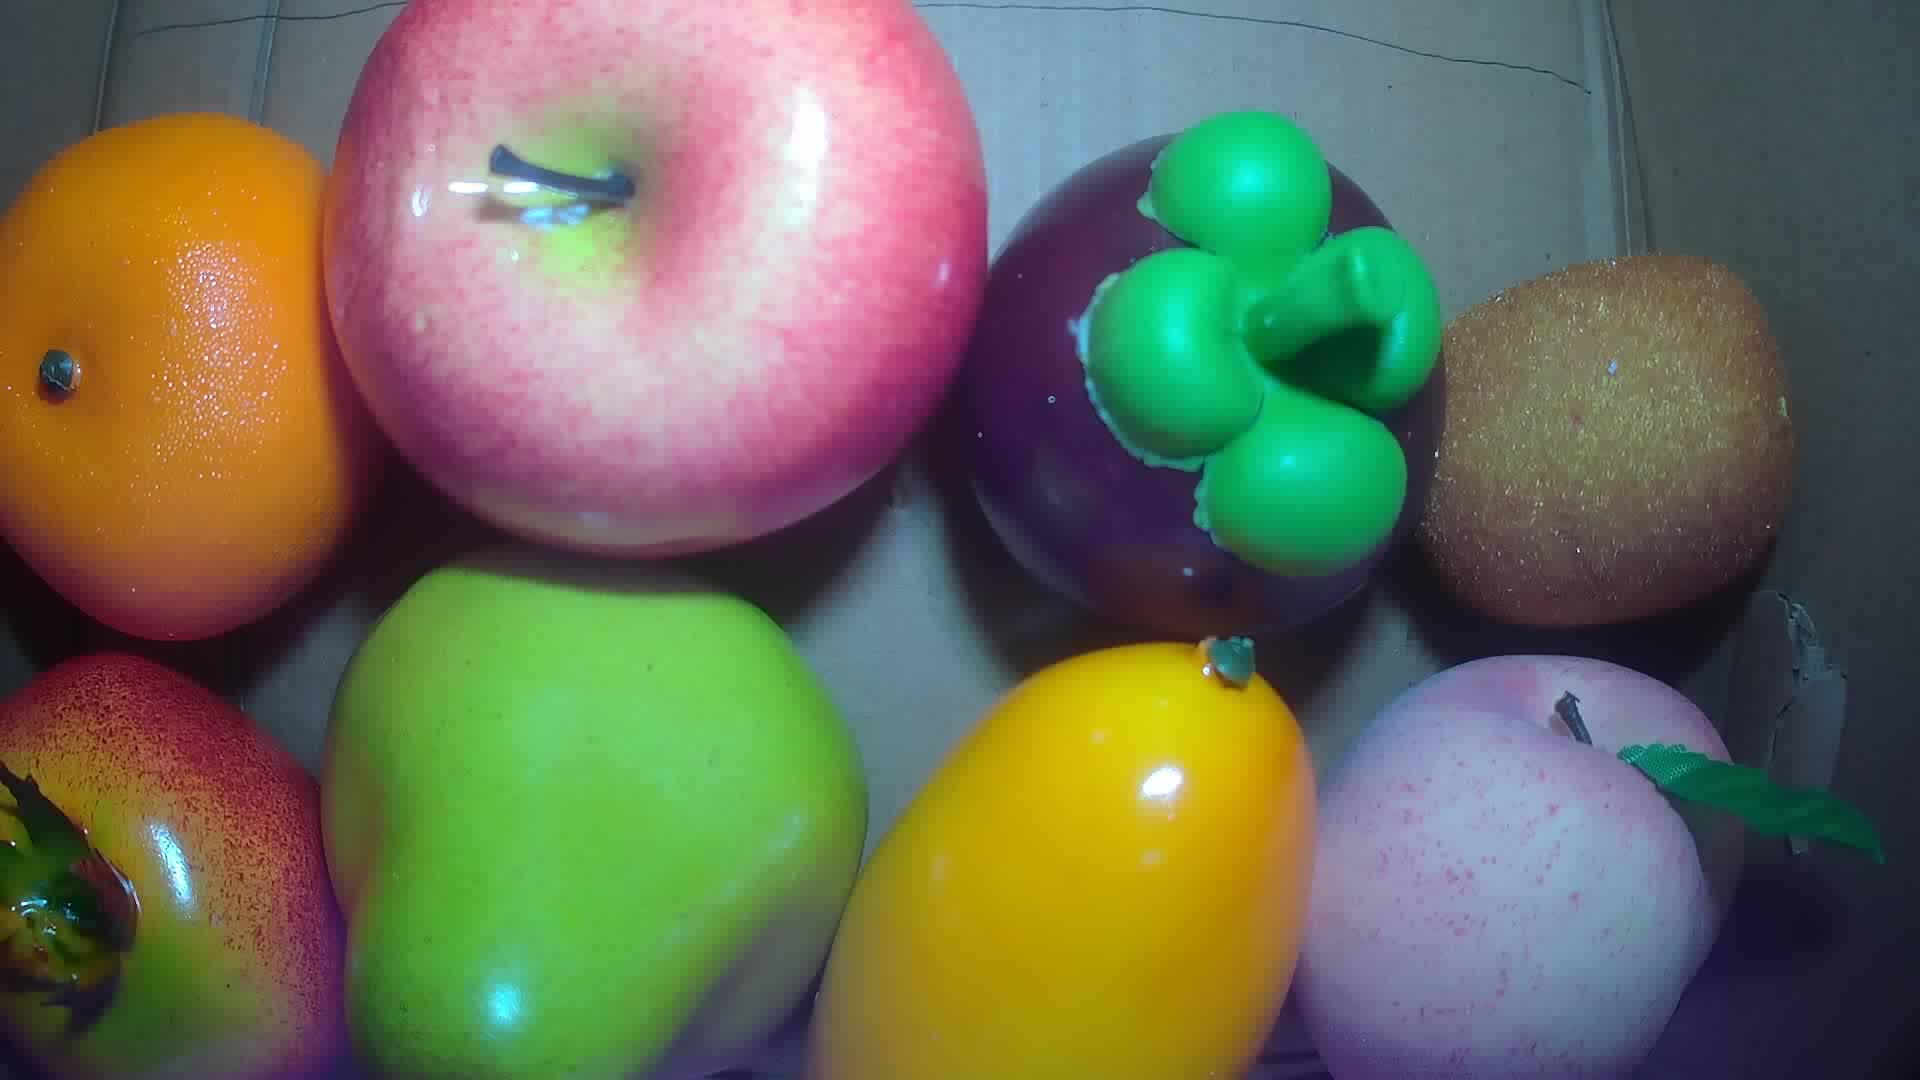apple: (319, 1, 989, 566)
kiwi: (1404, 252, 1796, 625)
mango: (800, 640, 1313, 1080)
mangosteen: (951, 109, 1445, 632)
orange: (1, 105, 380, 644)
peach: (1291, 657, 1749, 1077)
pear: (319, 525, 866, 1080)
pomegranate: (1, 659, 356, 1080)
